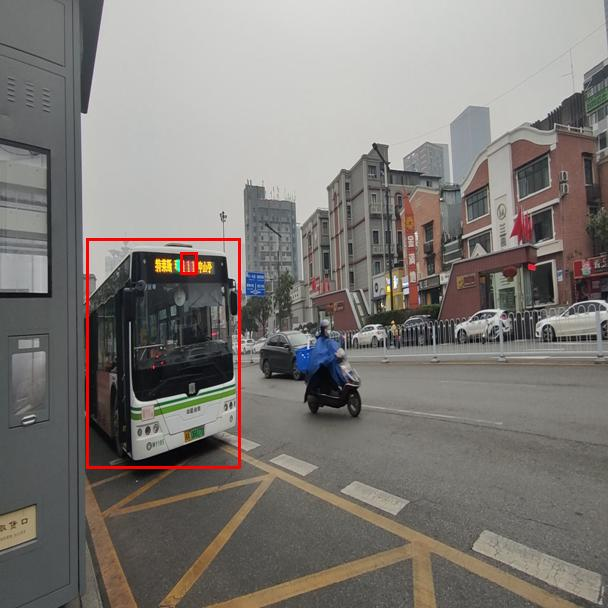bus: (86, 238, 240, 468)
screen: (180, 252, 197, 274)
